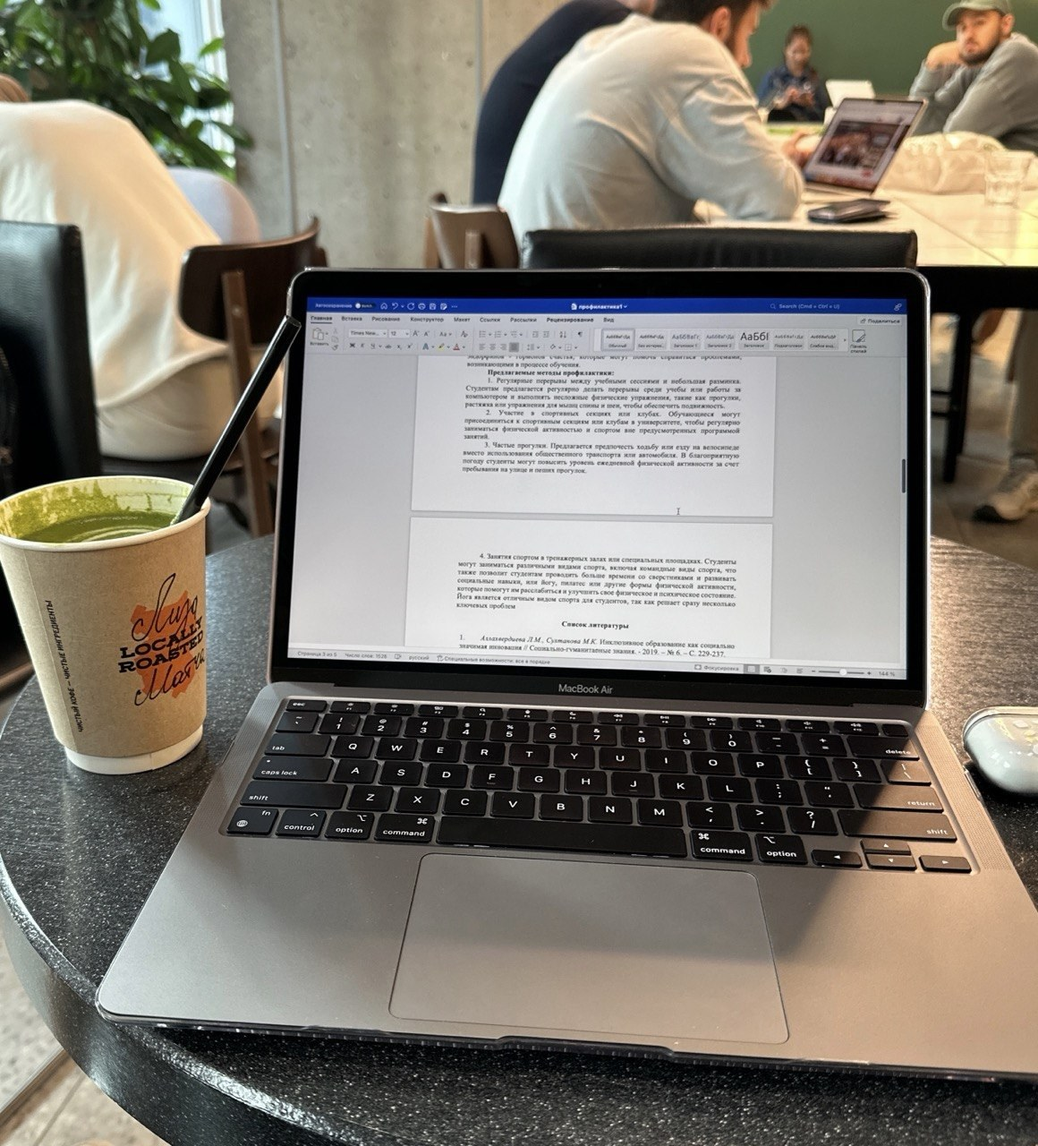laptop: (94, 266, 1037, 1083), (798, 95, 930, 200)
